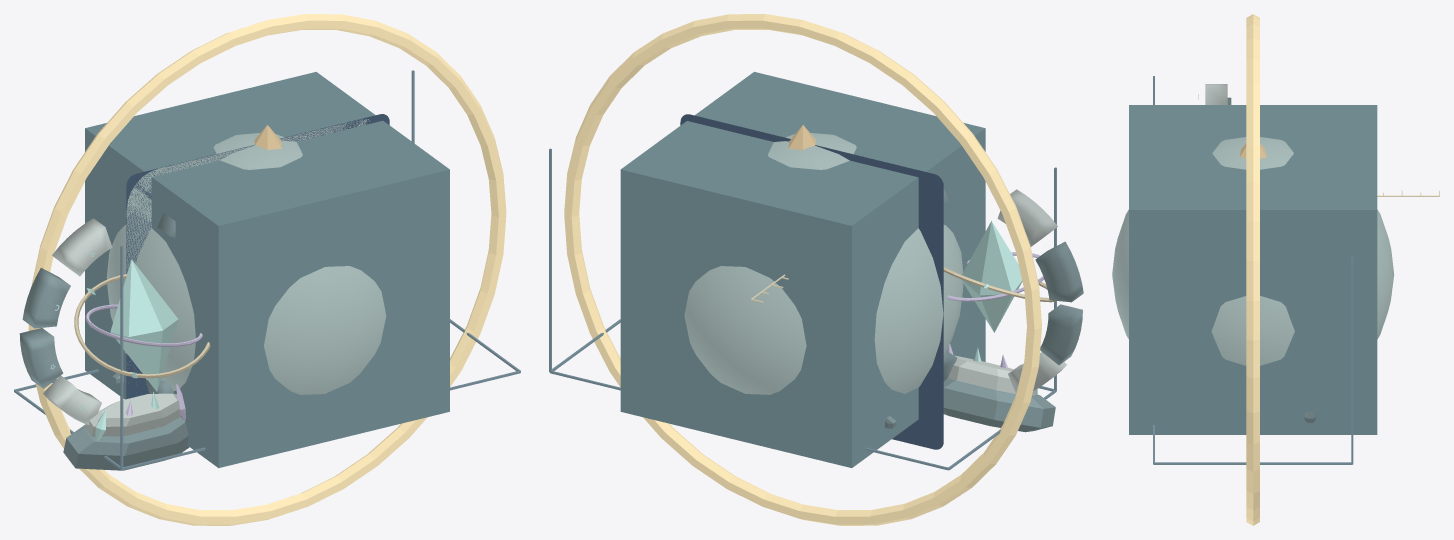
The model's file is OrbitalLoom.unity.glb.
3 renders of one model, left to right at view 1: azimuth 30°, elevation 25°; view 2: azimuth 150°, elevation 25°; view 3: azimuth 270°, elevation 25°, orthographic. The views are drawn at different scales.
Parts seen in each view (by area): view 1: Carved mechanism plinth, Arrival resonance 0, Toggle thumb, Suspended heart crystal, Fractured altar, Reading panel 0, Toggle rail, Altar crown, Broken stone arch 4, Broken stone arch 3, Broken stone arch 5, Broken stone arch 6 (+3 smaller); view 2: Carved mechanism plinth, Toggle thumb, Arrival resonance 0, Crystal edge, Fractured altar, Suspended heart crystal, Broken stone arch 4, Broken stone arch 5, Altar crown, Broken stone arch 3, Broken stone arch 6, Instrument frame 1 1; view 3: Carved mechanism plinth, Toggle thumb, Arrival resonance 0, Instrument frame 1 1, Instrument frame 1 2, Broken stone arch 3.
Part boxes in pixels (bbox=[...]): Carved mechanism plinth: bbox=[85, 71, 449, 468]; Arrival resonance 0: bbox=[28, 14, 506, 525]; Toggle thumb: bbox=[106, 133, 386, 394]; Suspended heart crystal: bbox=[110, 259, 178, 391]; Fractured altar: bbox=[63, 417, 189, 470]; Reading panel 0: bbox=[126, 114, 389, 398]; Toggle rail: bbox=[126, 119, 369, 372]; Altar crown: bbox=[85, 393, 181, 436]; Broken stone arch 4: bbox=[22, 268, 70, 328]; Broken stone arch 3: bbox=[52, 218, 112, 276]; Broken stone arch 5: bbox=[19, 328, 63, 388]; Broken stone arch 6: bbox=[43, 375, 101, 424]; Carved mechanism plinth: bbox=[620, 71, 985, 467]; Toggle thumb: bbox=[684, 133, 963, 394]; Arrival resonance 0: bbox=[564, 14, 1041, 525]; Crystal edge: bbox=[680, 114, 943, 449]; Fractured altar: bbox=[943, 378, 1055, 432]; Suspended heart crystal: bbox=[961, 221, 1022, 332]; Broken stone arch 4: bbox=[1035, 241, 1083, 302]; Broken stone arch 5: bbox=[1040, 304, 1082, 365]; Altar crown: bbox=[948, 355, 1035, 395]; Broken stone arch 3: bbox=[997, 189, 1057, 246]; Broken stone arch 6: bbox=[1008, 352, 1066, 393]; Instrument frame 1 1: bbox=[549, 148, 551, 372]; Carved mechanism plinth: bbox=[1129, 105, 1377, 434]; Toggle thumb: bbox=[1112, 137, 1394, 365]; Arrival resonance 0: bbox=[1246, 14, 1259, 525]; Instrument frame 1 1: bbox=[1351, 256, 1353, 463]; Instrument frame 1 2: bbox=[1154, 462, 1352, 464]; Broken stone arch 3: bbox=[1205, 84, 1227, 104].
Bounding box in the file's own units: 1.89 × 1.82 × 1.16.
34 materials, 7 textured.
